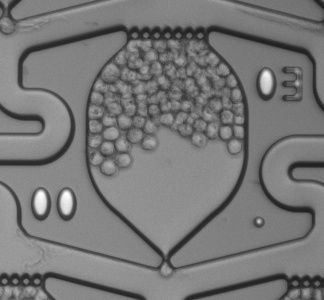AptNum: (249, 61, 309, 109)
Marker: (248, 211, 270, 232)
StNum: (23, 179, 87, 230)
Trap: (138, 257, 194, 300)
